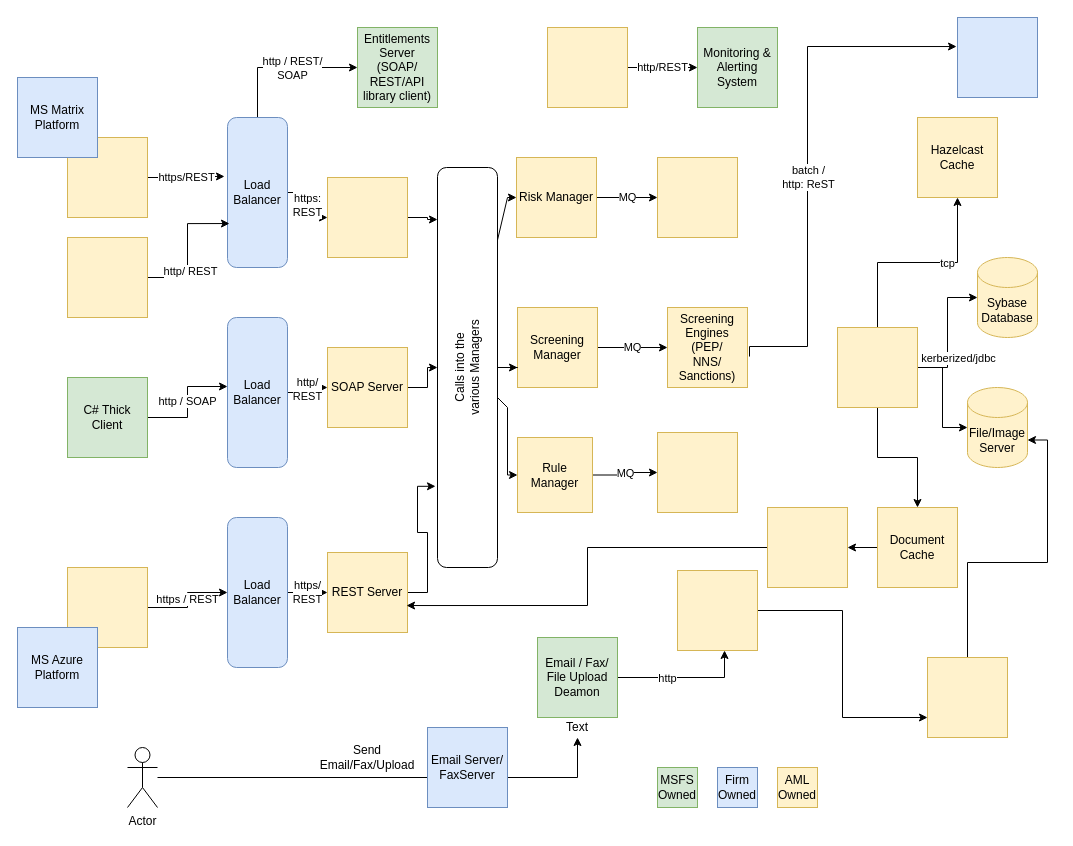
Image size: 1073x846. Some labels were removed from this diagram. The shapes that lost their labels are listed below. From the top down, each one's box as (x1, y1, x2, y2) in pixels, then its label:
(546, 26, 628, 108): AML Admin Manager Zookeeper
(956, 16, 1038, 98): Firm Screening APIs
(66, 136, 148, 218): Angular External WebPage
(656, 156, 738, 238): Risk Engine
(326, 176, 408, 258): Internal/ External REST Server
(66, 236, 148, 318): Angular Internal Web
(836, 326, 918, 408): Cache Manager
(656, 432, 738, 512): Rule Calculators
(766, 506, 848, 588): Document Streamer
(66, 566, 148, 648): AML API
(676, 570, 758, 650): Document Management Server
(926, 656, 1008, 738): Document Writer
